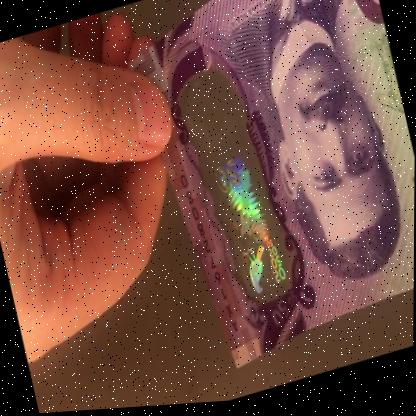50F: (190, 91, 296, 307)
